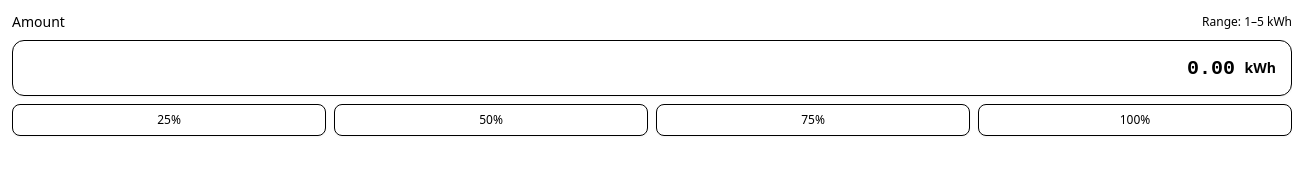
Test case: AmountInput › quick-amount pills (percentage of MAX 5 kWh) › 25% sets amount to 1.25 (of 5 kWh)
Click the button "25%": x=169, y=120 top-left (12, 104), bottom-right (326, 136)
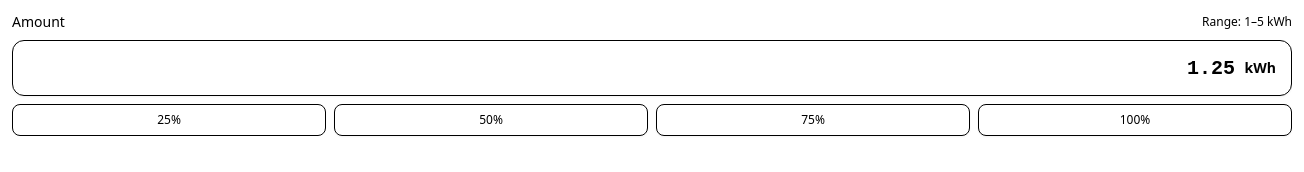
Expected: the number field with test id "order-amount-input" holds "1.25", top-left (12, 40), bottom-right (1292, 96)
